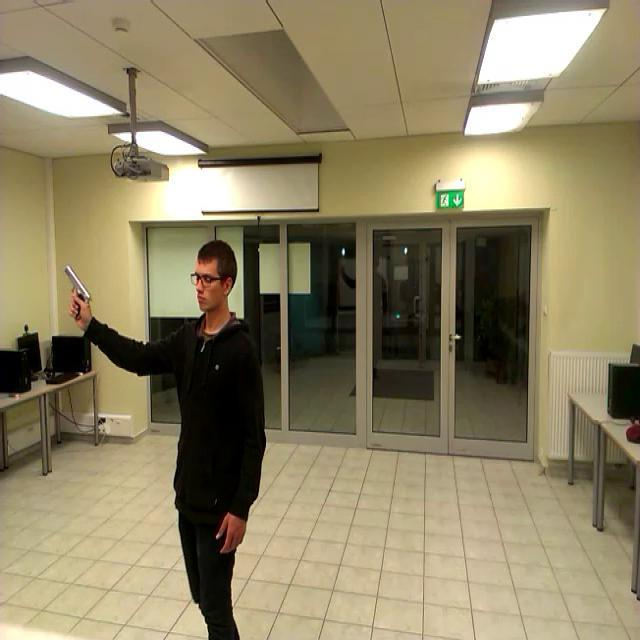Gun: (64, 264, 90, 320)
